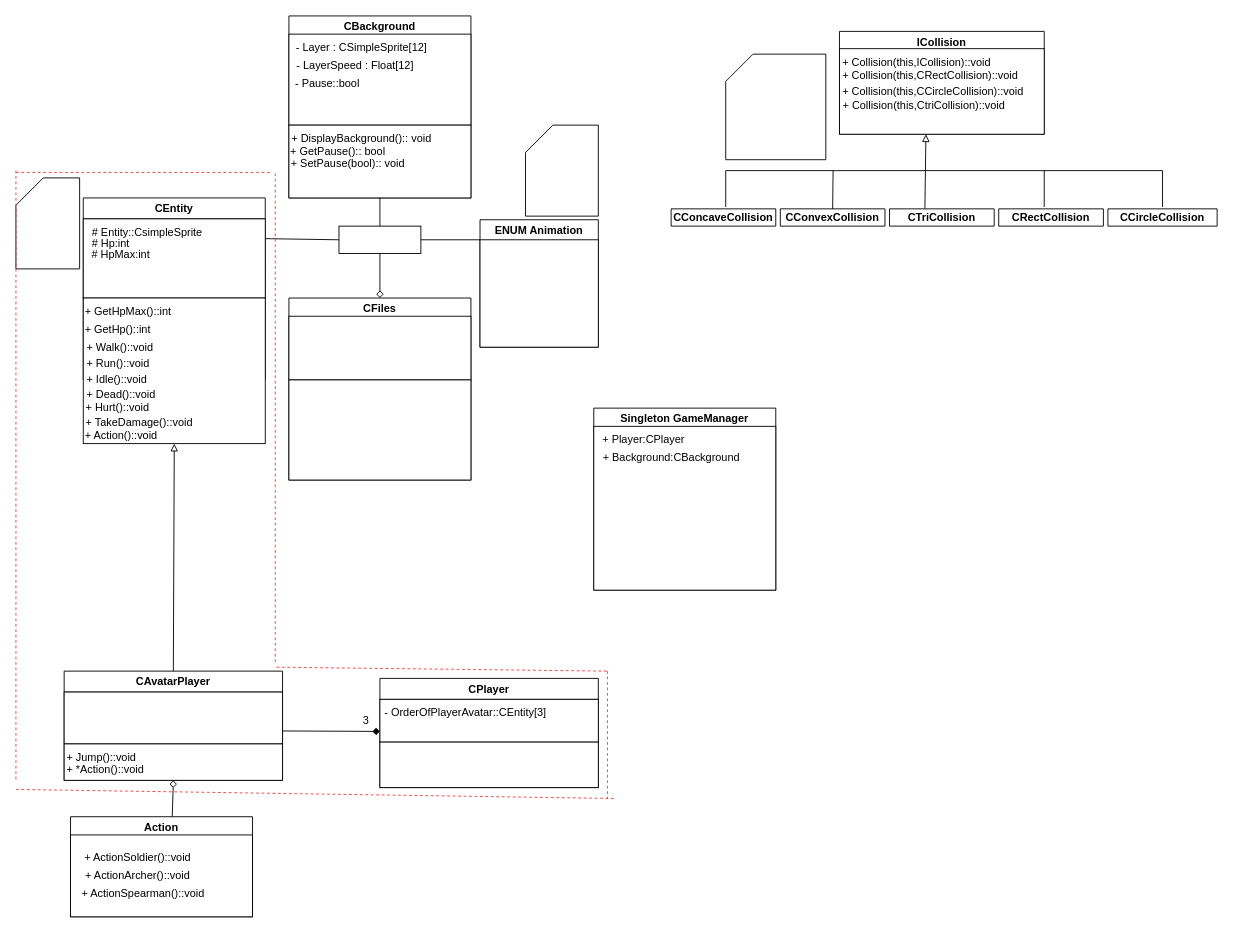
The diagram is 1233 pixels wide and 933 high, and some of its shapes have lost their labels. The centre of each missing label's shape, as x and y in pixels:
"+ ReadSpriteFile():*CsimpleSprite" goes at point (379, 429).
"+ SwapPlayerAvatar()::void" goes at point (488, 764).
"Action peut-être une attaque ou une parade" goes at point (561, 170).
"CSimpleSprite" goes at point (379, 239).
"Implémentation des classes convexe et concave seulement si besoin" goes at point (775, 106).
"Les ennemies seront des Entities" goes at point (47, 223).
"WALK RUN JUMP IDLE DEAD HURT ACTION" goes at point (538, 293).
